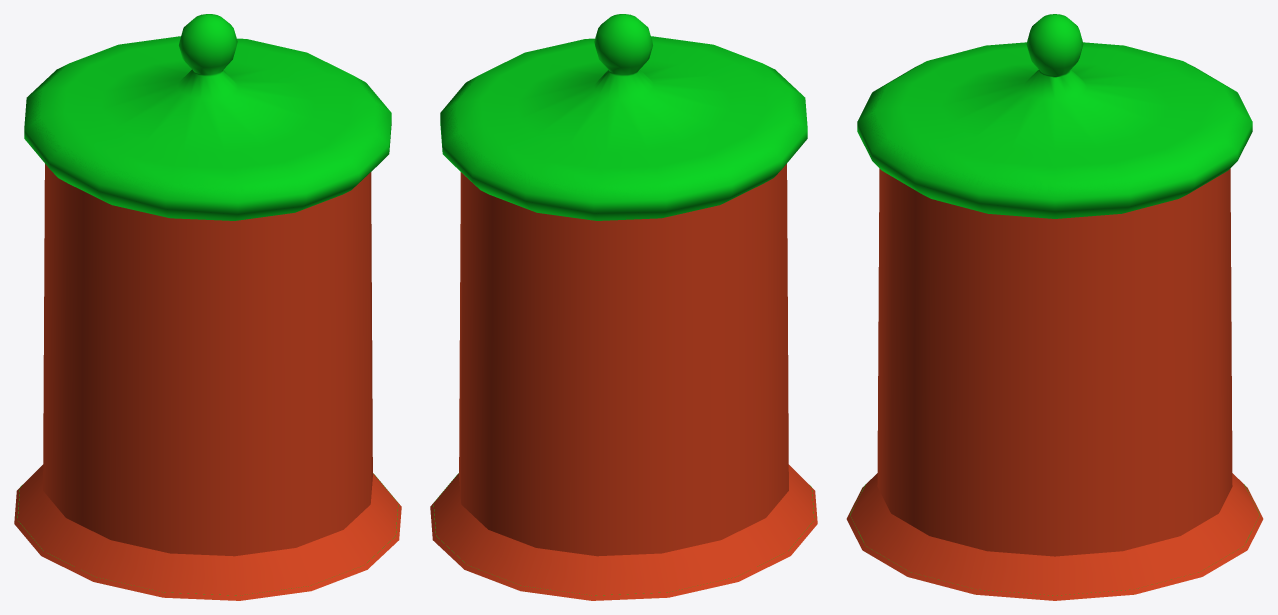
File: Jar with Brain.fbx
3 renders of one model, left to right at view 1: azimuth 30°, elevation 25°; view 2: azimuth 150°, elevation 25°; view 3: azimuth 270°, elevation 25°, orthographic.
Parts seen in each view (by area): view 1: Cylinder; view 2: Cylinder; view 3: Cylinder.
Part boxes in pixels (x1,y1,x2,y2): Cylinder: (14, 14, 401, 600); Cylinder: (430, 14, 817, 600); Cylinder: (846, 14, 1263, 600).
Size of the model in its own units: 52.01 by 74.54 by 55.91.
